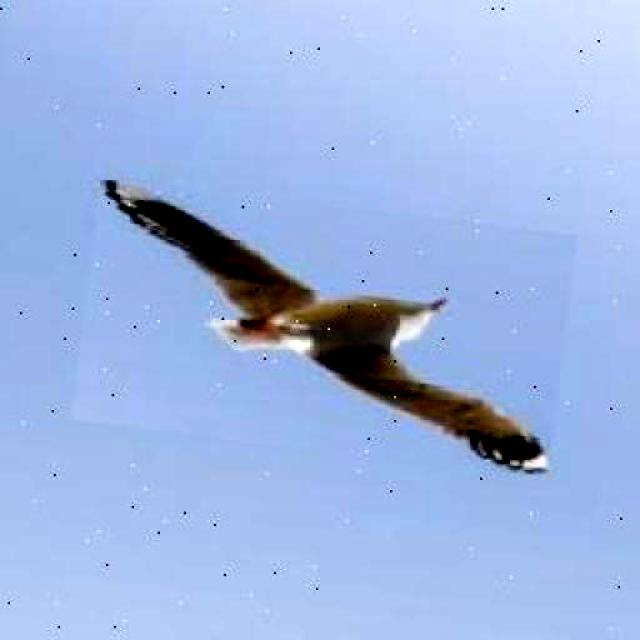airplane: (69, 176, 575, 476)
